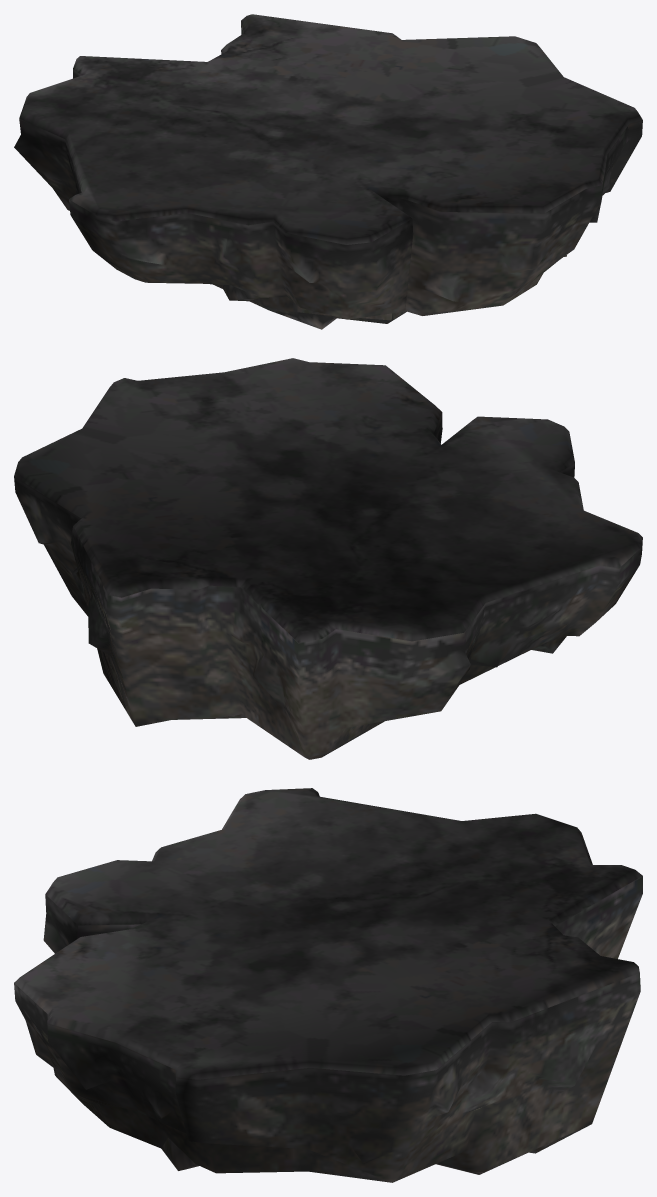
File: storm_fusion_cp_dark.glb
3 views of the same model, one above another, from view 1: azimuth 30°, elevation 25°; view 2: azimuth 150°, elevation 25°; view 3: azimuth 270°, elevation 25° (orthographic). The views are drawn at different scales.
Parts seen in each view (by area): view 1: storm_fusion_cp_dark_0; view 2: storm_fusion_cp_dark_0; view 3: storm_fusion_cp_dark_0.
Part boxes in pixels (x1,y1,x2,y2): storm_fusion_cp_dark_0: (14, 14, 642, 329); storm_fusion_cp_dark_0: (14, 358, 642, 759); storm_fusion_cp_dark_0: (14, 788, 642, 1182).
Size of the model in its own units: 99.97 by 28.58 by 92.36.
Materials: 1 (1 with a texture image).
